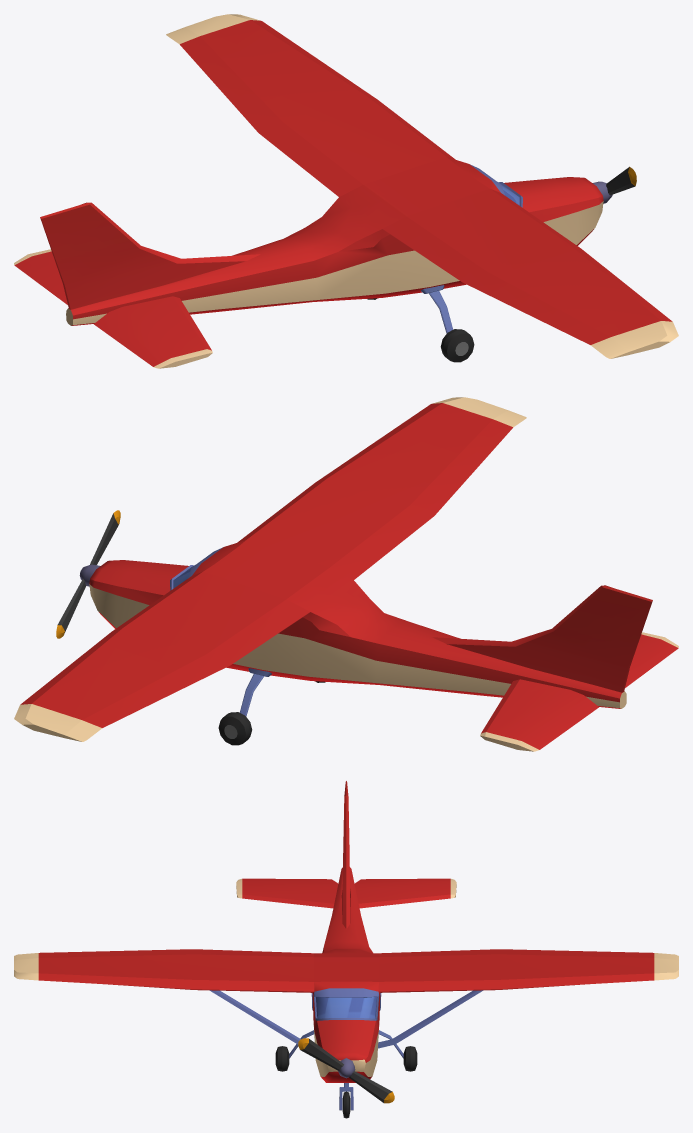
The picture shows the model from 3 angles, top to bottom: view 1: azimuth 30°, elevation 25°; view 2: azimuth 150°, elevation 25°; view 3: azimuth 270°, elevation 25°; orthographic projection. The views are drawn at different scales.
Parts seen in each view (by area): view 1: Plane_2_D, Propeler; view 2: Plane_2_D, Propeler; view 3: Plane_2_D, Propeler.
Part boxes in pixels (x1,y1,x2,y2): Plane_2_D: [14, 14, 678, 368]; Propeler: [606, 166, 636, 195]; Plane_2_D: [14, 397, 678, 751]; Propeler: [56, 510, 120, 638]; Plane_2_D: [14, 781, 678, 1118]; Propeler: [298, 1038, 394, 1103].
Bounding box in the file's own units: 12.41 × 4.29 × 16.66.
Materials: 3 (3 with a texture image).
